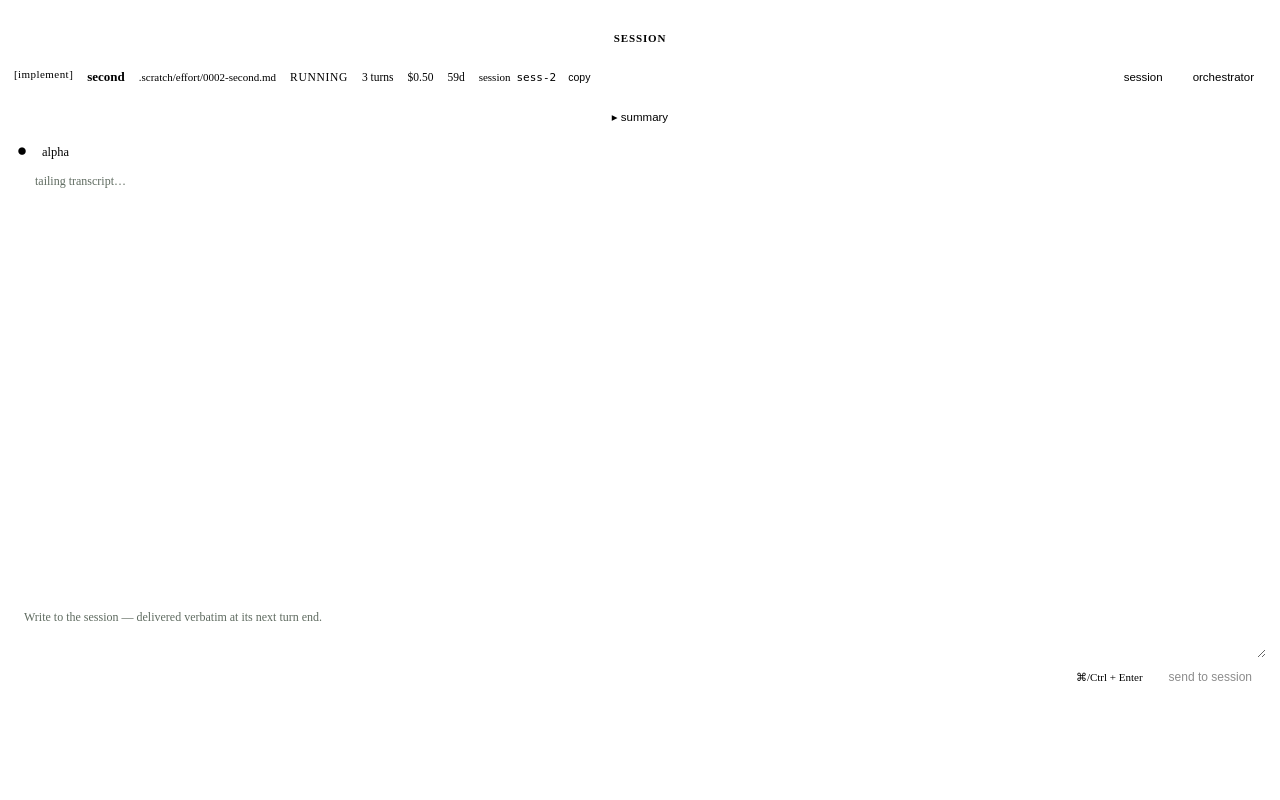
Test case: SessionPanel summary fold › starts folded and reveals the summary on toggle
Expected: the text "very long recap" is not shown
Expected: the text "settled the seam sketch" is not shown
Click the button "▸ summary". click: (640, 117)
box: [14,108,1266,126]
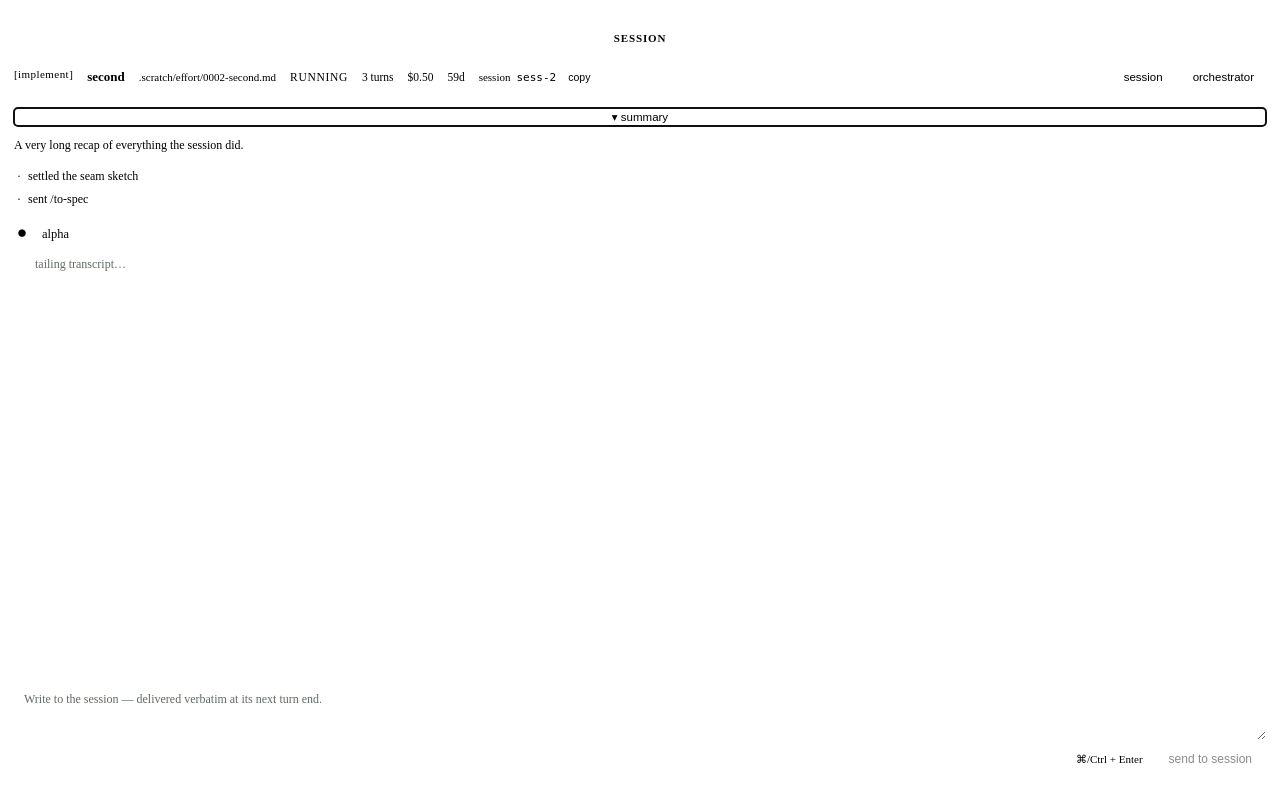
Expected: the text "A very long recap of everything the session did." is shown, [14,138,244,152]
Expected: the list item "settled the seam sketch" is shown, [28,169,138,183]
Click the button "▾ summary". click: (640, 117)
box: [14,108,1266,126]
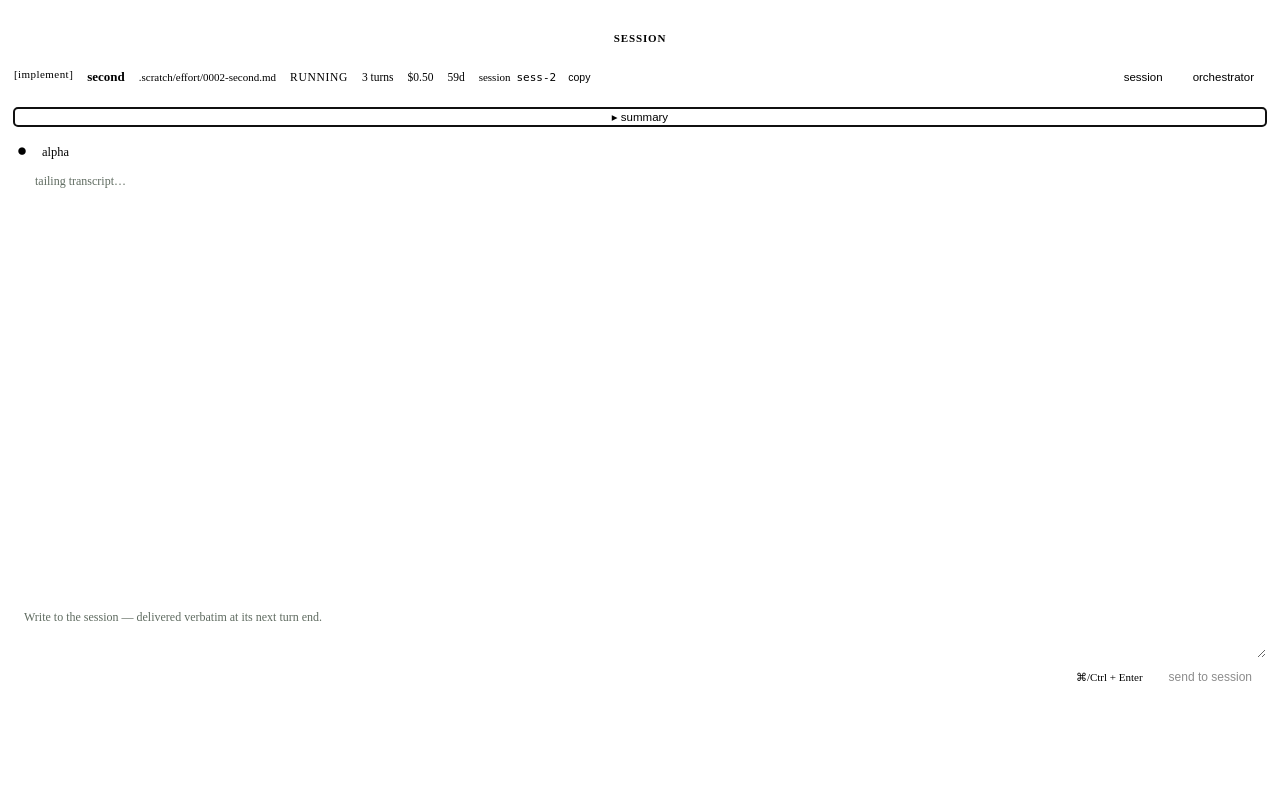
Expected: the text "very long recap" is gone
